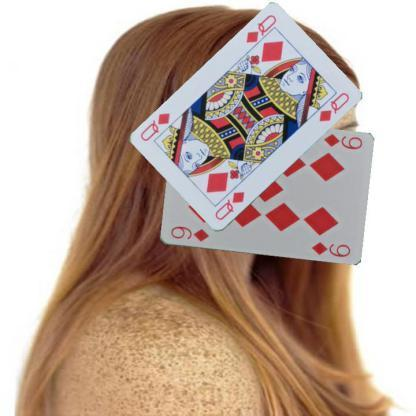9d: (168, 223, 210, 244), (322, 131, 364, 151)
Qd: (244, 12, 278, 53), (212, 189, 246, 222)
